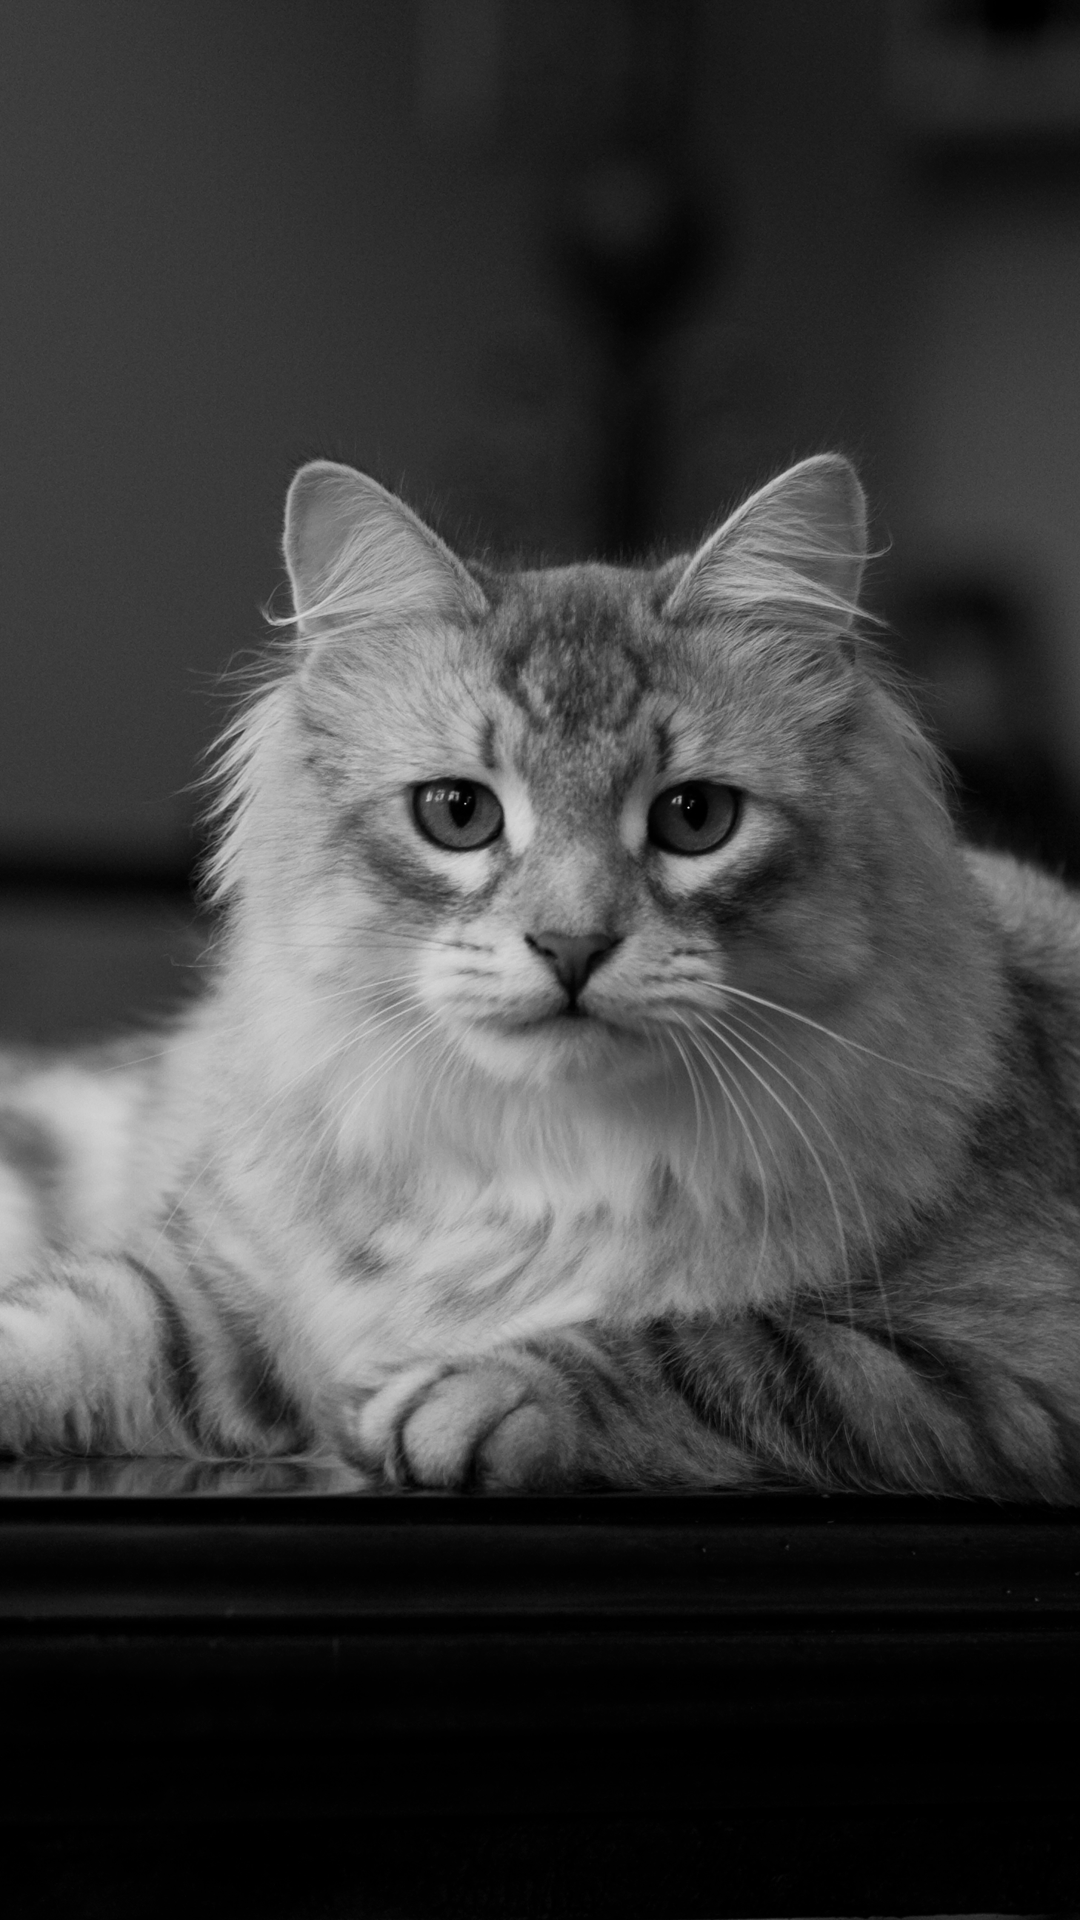cat: (1, 454, 1080, 1503)
